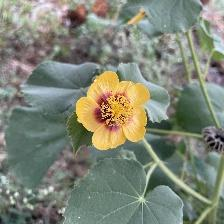indian mallow: (72, 71, 152, 150)
